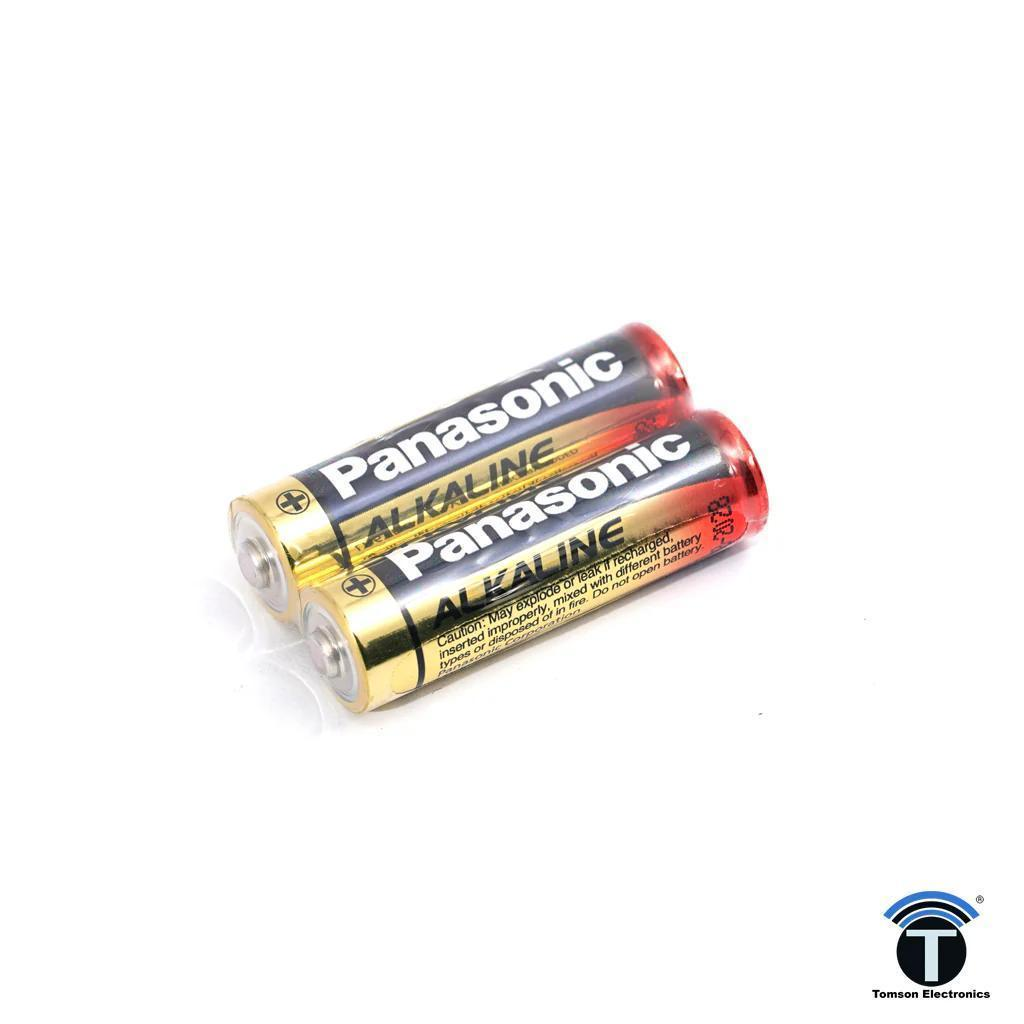AA: (290, 400, 776, 726), (224, 314, 700, 629)
